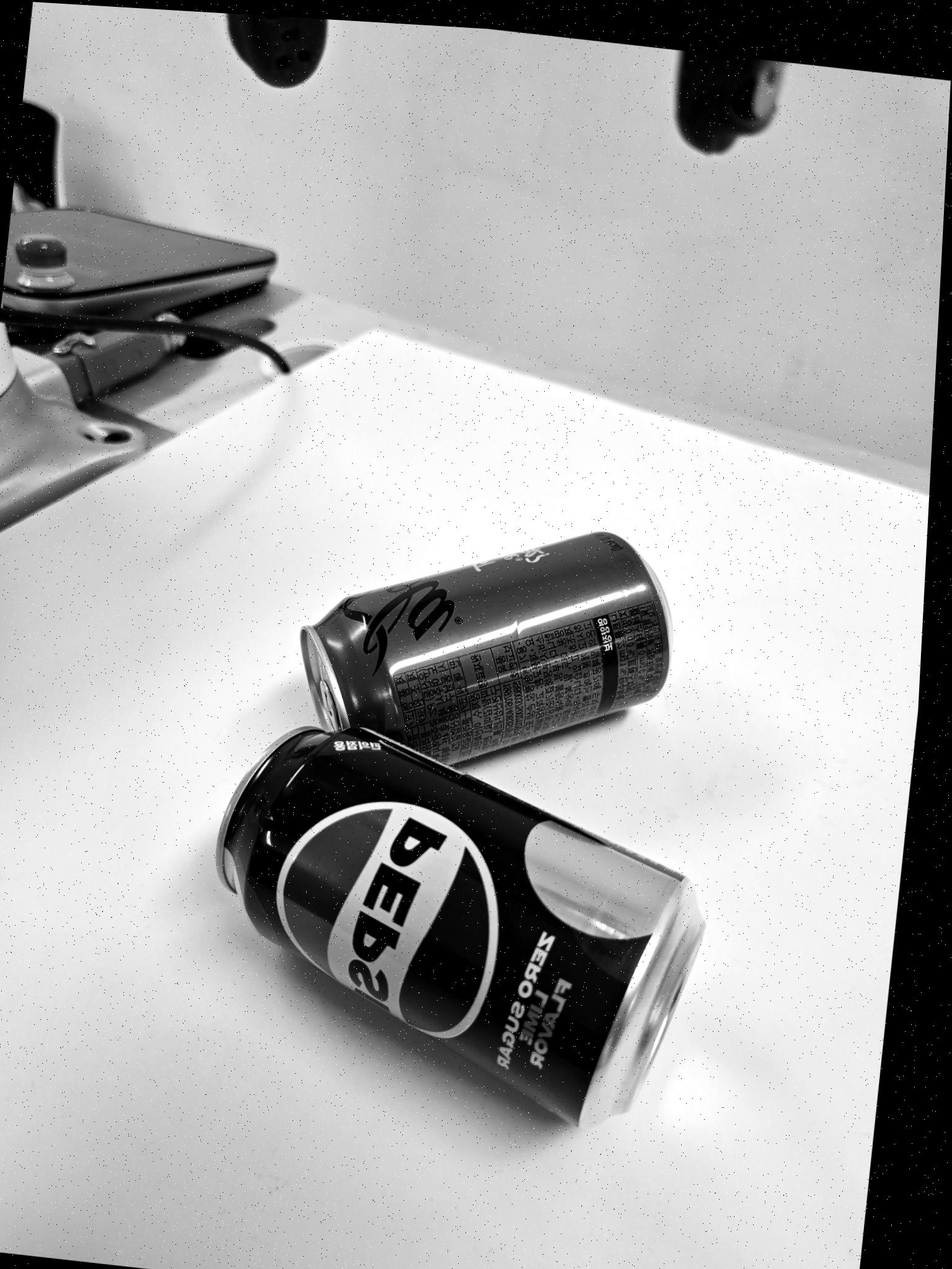can_coke_zero: (300, 530, 671, 774)
can_pepsi_zero: (213, 719, 703, 1127)
